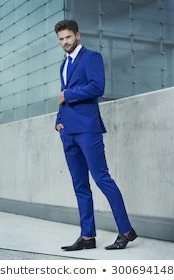F_M_suit jacket: (53, 51, 107, 137)
F_dress pants: (59, 124, 134, 239)
F_tie: (66, 56, 76, 90)
